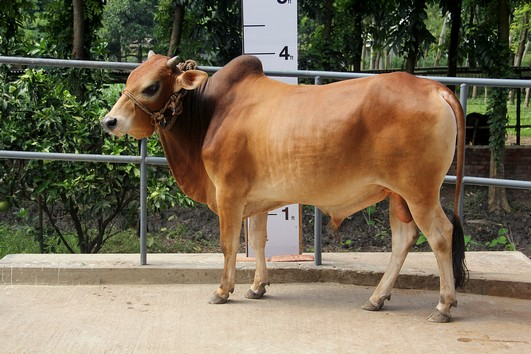cow: (101, 41, 473, 326)
